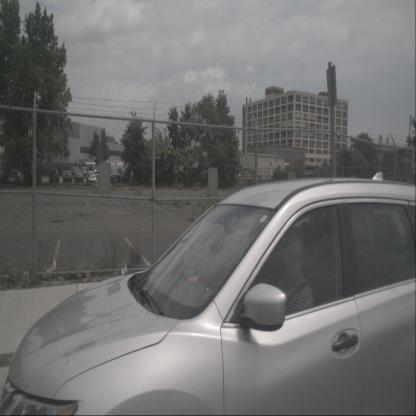vehicle-car: (0, 176, 416, 416), (8, 169, 24, 185), (49, 168, 60, 184), (110, 170, 122, 183), (62, 170, 74, 182), (86, 171, 97, 184), (121, 171, 132, 183), (74, 171, 85, 183), (70, 165, 80, 178), (80, 166, 90, 176)
